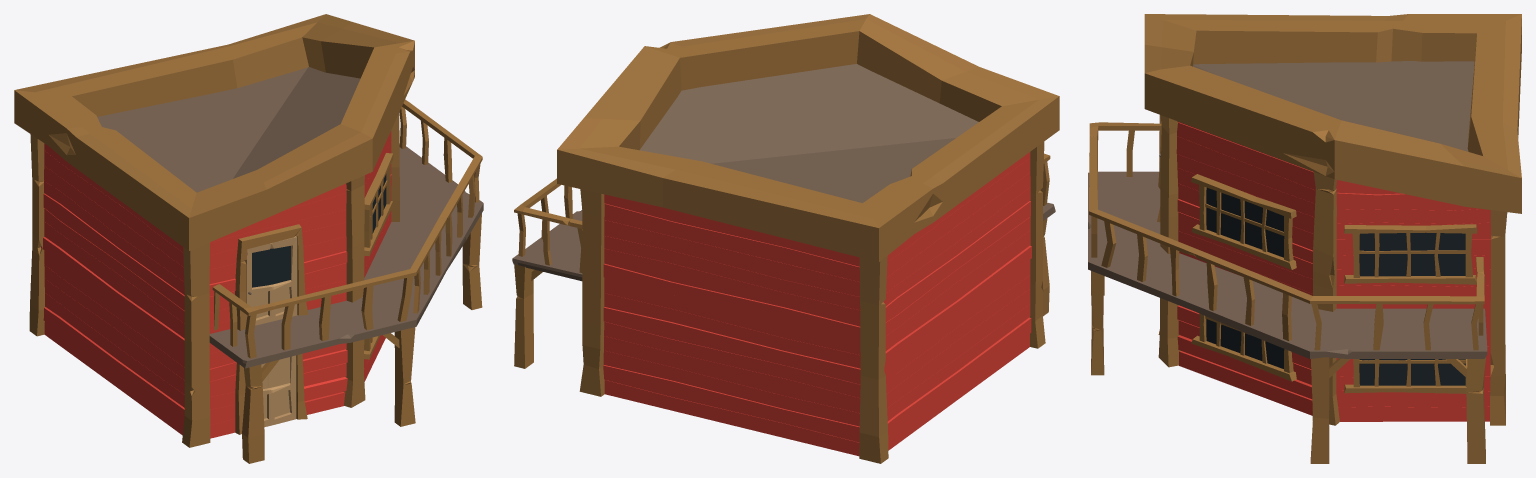
Rendered from Building_Gold_Stash_Building.fbx.
The picture shows the model from 3 angles, left to right: view 1: azimuth 30°, elevation 25°; view 2: azimuth 150°, elevation 25°; view 3: azimuth 270°, elevation 25°; orthographic projection. The views are drawn at different scales.
Parts seen in each view (by area): view 1: Building_Gold_Stash_Building; view 2: Building_Gold_Stash_Building; view 3: Building_Gold_Stash_Building.
Part boxes in pixels (x1,y1,x2,y2): Building_Gold_Stash_Building: [14, 14, 483, 463]; Building_Gold_Stash_Building: [512, 14, 1059, 463]; Building_Gold_Stash_Building: [1088, 14, 1521, 463].
Bounding box in the file's own units: 980 × 919 × 688.
